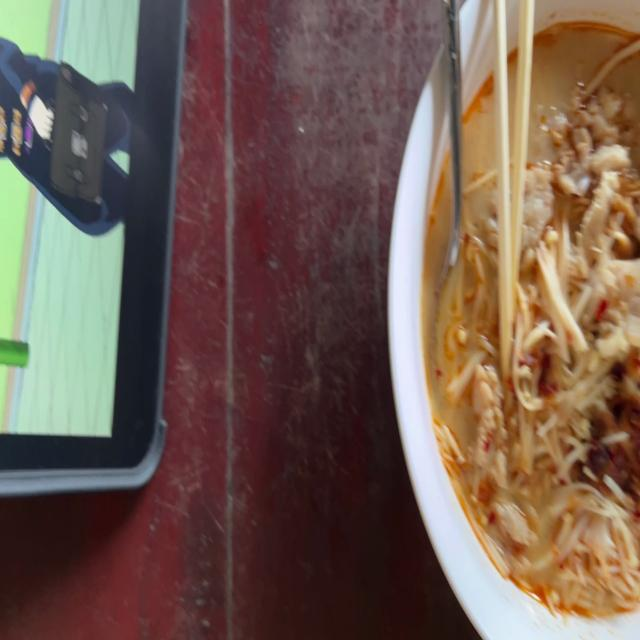noodle: (417, 19, 640, 635)
